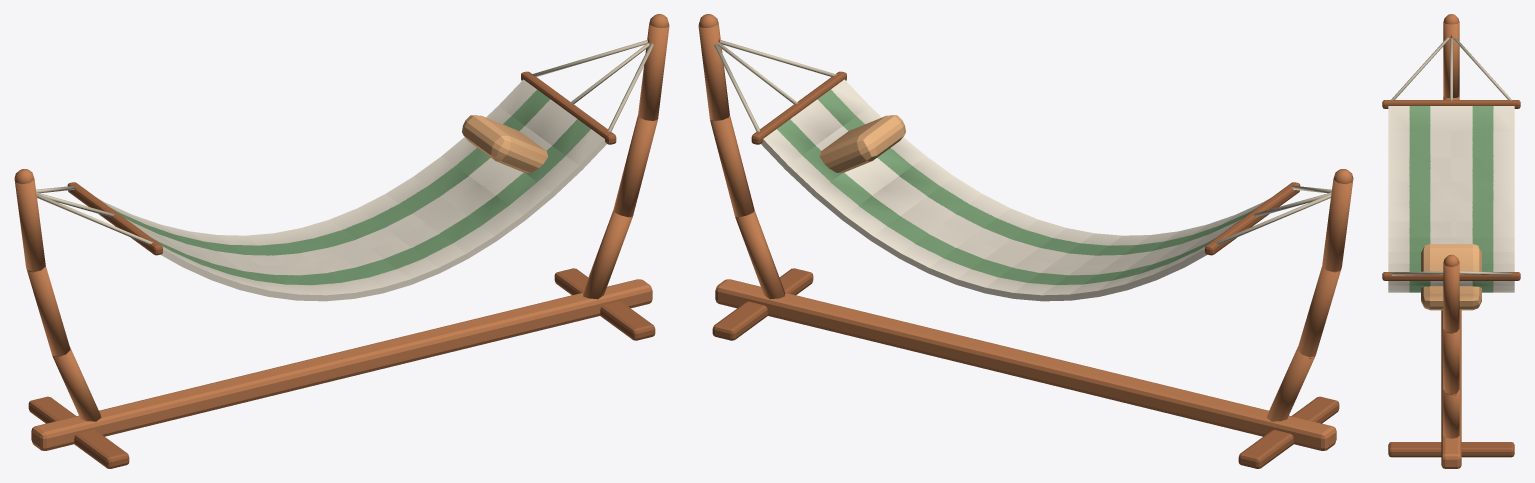
File: gardenHammock.glb
3 renders of one model, left to right at view 1: azimuth 30°, elevation 25°; view 2: azimuth 150°, elevation 25°; view 3: azimuth 270°, elevation 25°, orthographic. The views are drawn at different scales.
Visible parts, largest first — view 1: sling, body; view 2: sling, body; view 3: sling, body.
Boxes of the visible parts, x1=… form: sling: x1=36, y1=40, x2=653, y2=301; body: x1=14, y1=14, x2=669, y2=468; sling: x1=714, y1=40, x2=1331, y2=301; body: x1=698, y1=14, x2=1353, y2=468; sling: x1=1382, y1=37, x2=1520, y2=310; body: x1=1388, y1=14, x2=1514, y2=468.
Bounding box in the file's own units: 2.88 × 1.19 × 0.68.
